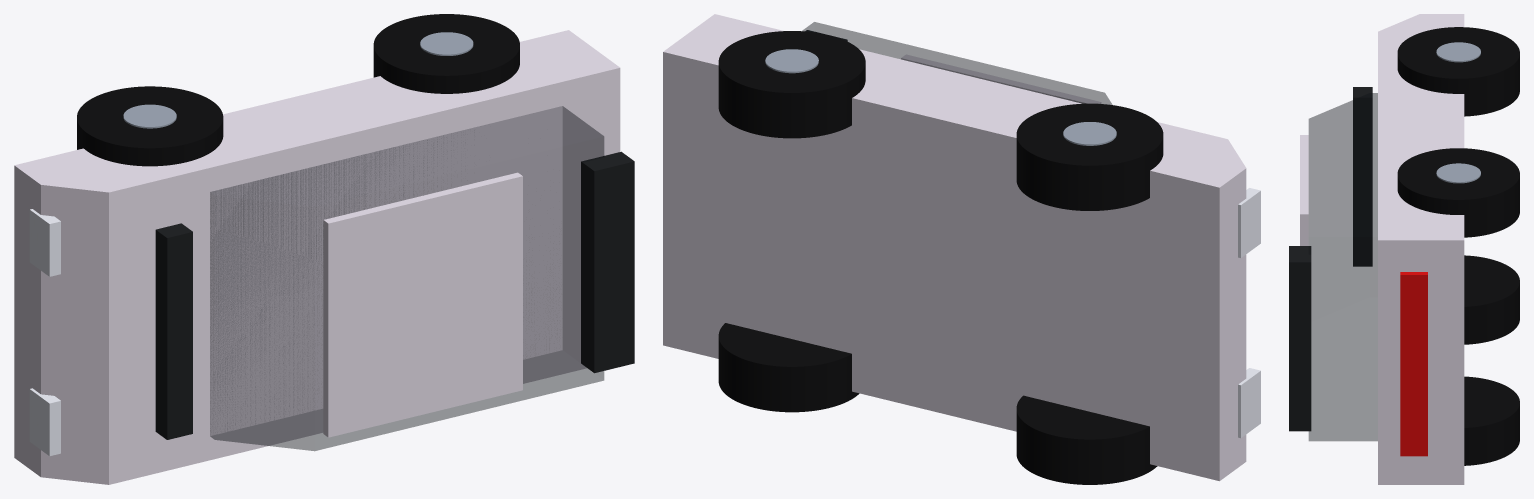
File: Race3_Rally.obj
3 views of the same model, side by side, from view 1: azimuth 30°, elevation 25°; view 2: azimuth 150°, elevation 25°; view 3: azimuth 270°, elevation 25° (orthographic). The views are drawn at different scales.
Visible parts, largest first — view 1: Body, Glass, Roof, Spoiler, WheelFR, WheelRR, LightBar, HLl, HLr, HubFR, HubRR; view 2: Body, WheelRR, WheelFR, WheelRL, WheelFL, Glass, HLl, HLr, Roof, HubRR, HubFR; view 3: Body, Glass, WheelFR, WheelRR, TL, WheelRL, WheelFL, Spoiler, LightBar, Roof, HubFR, HubRR.
Part boxes in pixels (x1,y1,x2,y2): Body: (14,30,620,484); Glass: (210,106,603,450); Roof: (323,172,522,437); Spoiler: (581,151,634,373); WheelFR: (77,86,223,166); WheelRR: (373,14,519,93); LightBar: (155,223,192,439); HLl: (29,388,60,456); HLr: (29,209,60,276); HubFR: (123,104,176,128); HubRR: (420,32,473,55); Body: (663,14,1246,481); WheelRR: (718,31,865,138); WheelFR: (1016,103,1163,210); WheelRL: (718,323,859,412); WheelFL: (1016,395,1157,484); Glass: (802,22,1112,104); HLl: (1238,368,1260,438); HLr: (1238,188,1260,257); Roof: (901,54,1101,103); HubRR: (765,49,818,73); HubFR: (1063,122,1116,145); Body: (1378,14,1464,484); Glass: (1309,93,1377,440); WheelFR: (1397,27,1519,116); WheelRR: (1397,148,1519,237); TL: (1400,272,1427,456); WheelRL: (1464,376,1519,465); WheelFL: (1464,255,1519,344); Spoiler: (1289,246,1311,431); LightBar: (1353,87,1372,266); Roof: (1300,135,1308,245); HubFR: (1436,42,1480,62); HubRR: (1436,163,1480,183).
Size of the model in its own units: 3.92 by 2.16 by 1.66.
